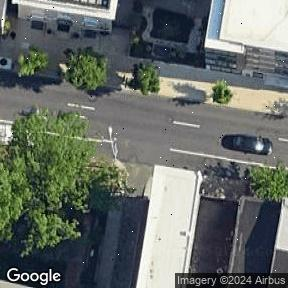vegetation: (0, 107, 125, 256), (65, 47, 107, 92), (12, 43, 53, 84), (250, 165, 288, 201), (131, 64, 160, 95), (208, 78, 235, 105)
